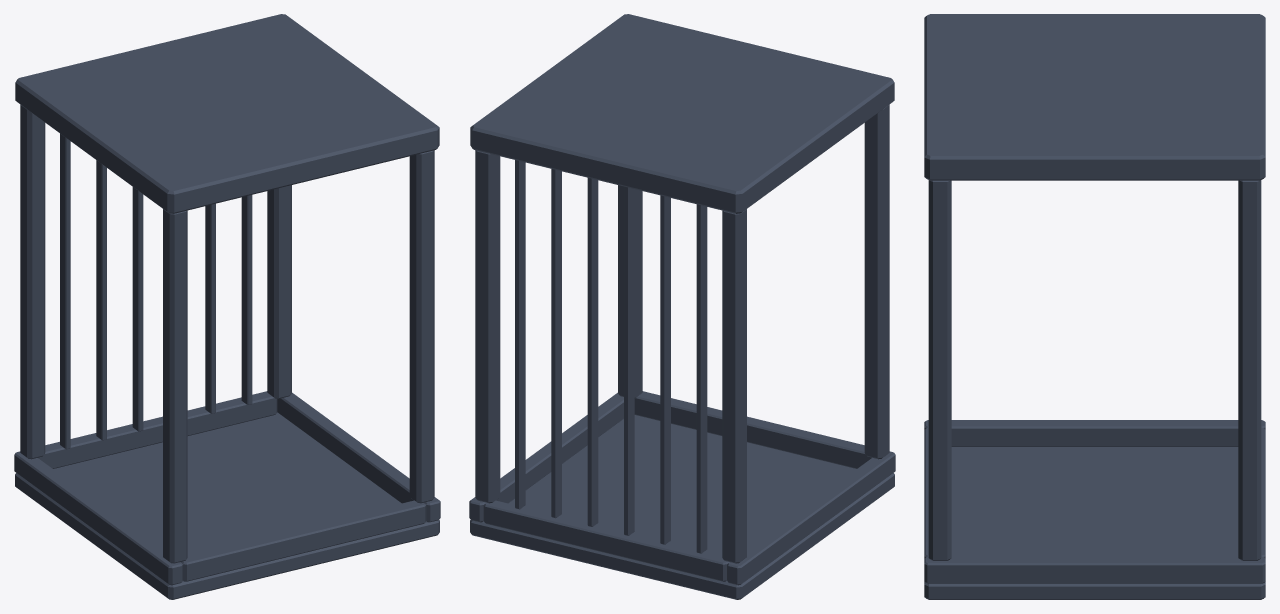
Rendered from lift-cage.glb.
The picture shows the model from 3 angles, left to right: view 1: azimuth 30°, elevation 25°; view 2: azimuth 150°, elevation 25°; view 3: azimuth 270°, elevation 25°; orthographic projection. The views are drawn at different scales.
Visible parts, largest first — view 1: lift-cage__body; view 2: lift-cage__body; view 3: lift-cage__body.
Boxes of the visible parts, left/top/right/bottom form: lift-cage__body: left=14, top=14, right=440, bottom=599; lift-cage__body: left=469, top=14, right=895, bottom=599; lift-cage__body: left=924, top=14, right=1265, bottom=599.
Size of the model in its own units: 1.5 by 2.15 by 1.5.
